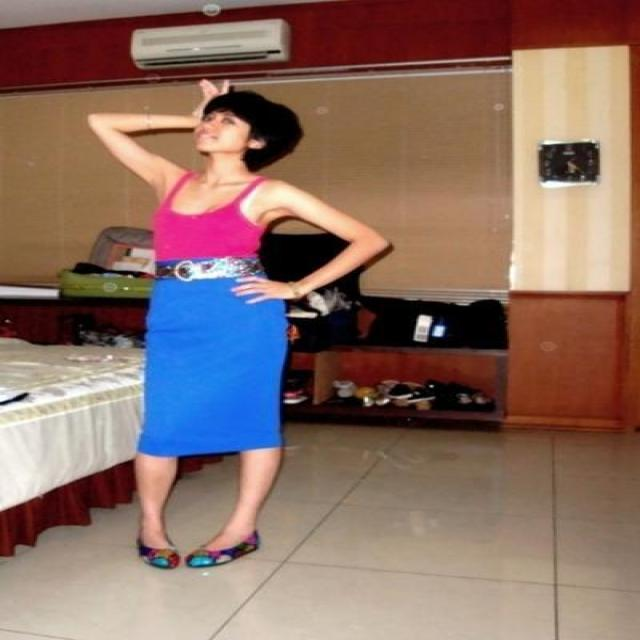bag: (152, 198, 262, 260)
shoe: (138, 530, 259, 569)
skirt: (138, 278, 288, 457)
